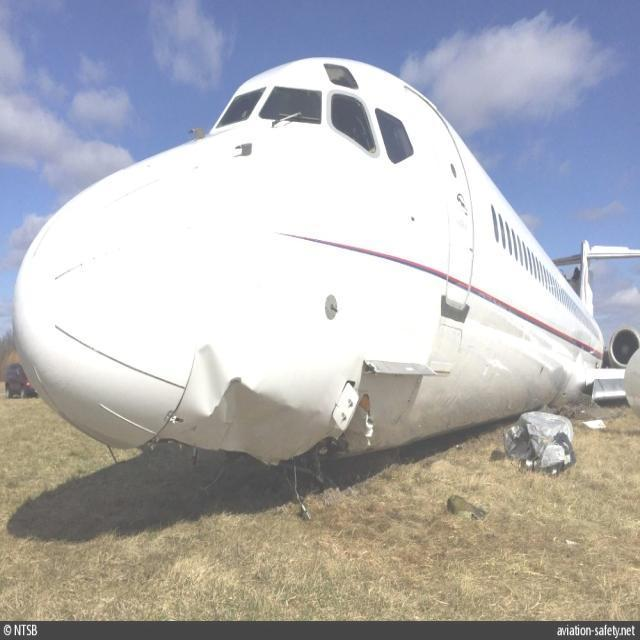dent: (214, 385, 320, 455), (189, 336, 231, 422)
